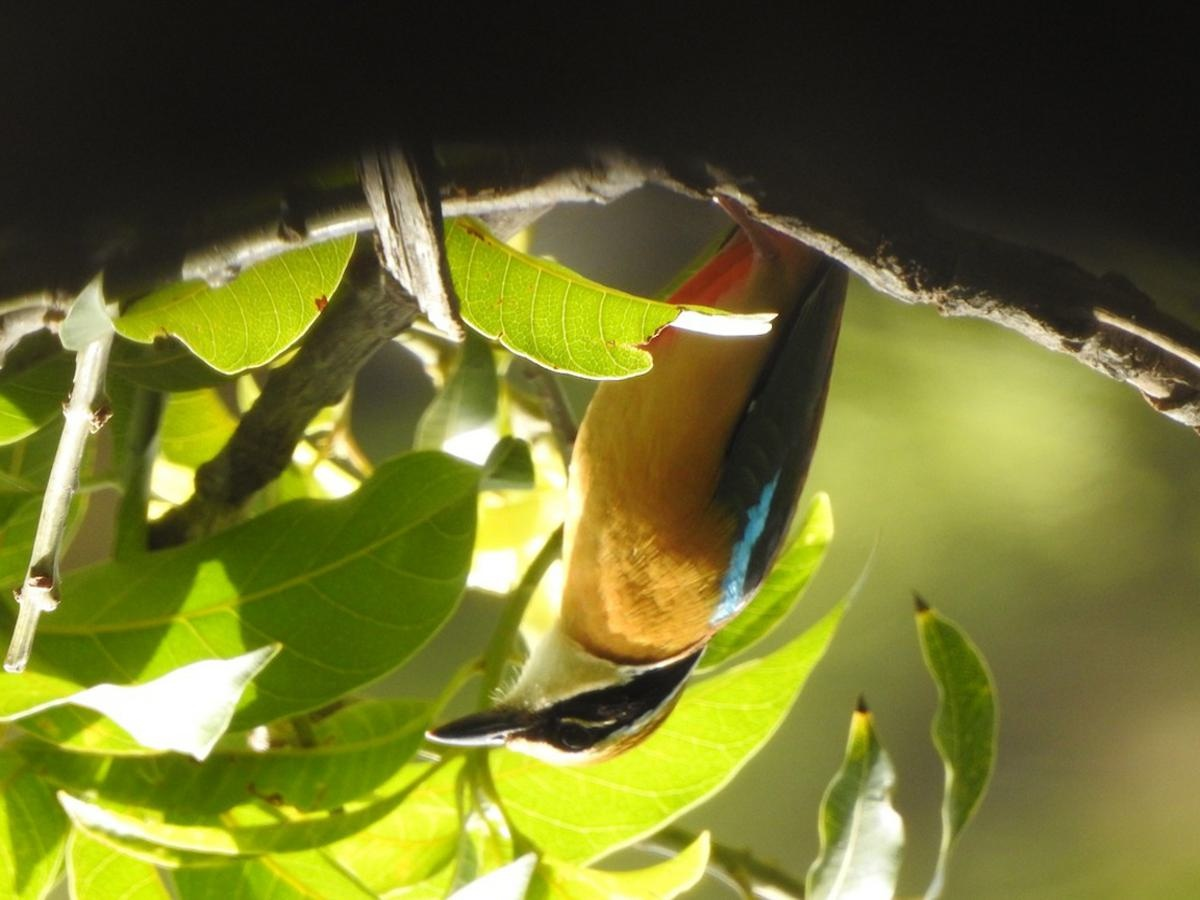pitta: (417, 173, 861, 785)
